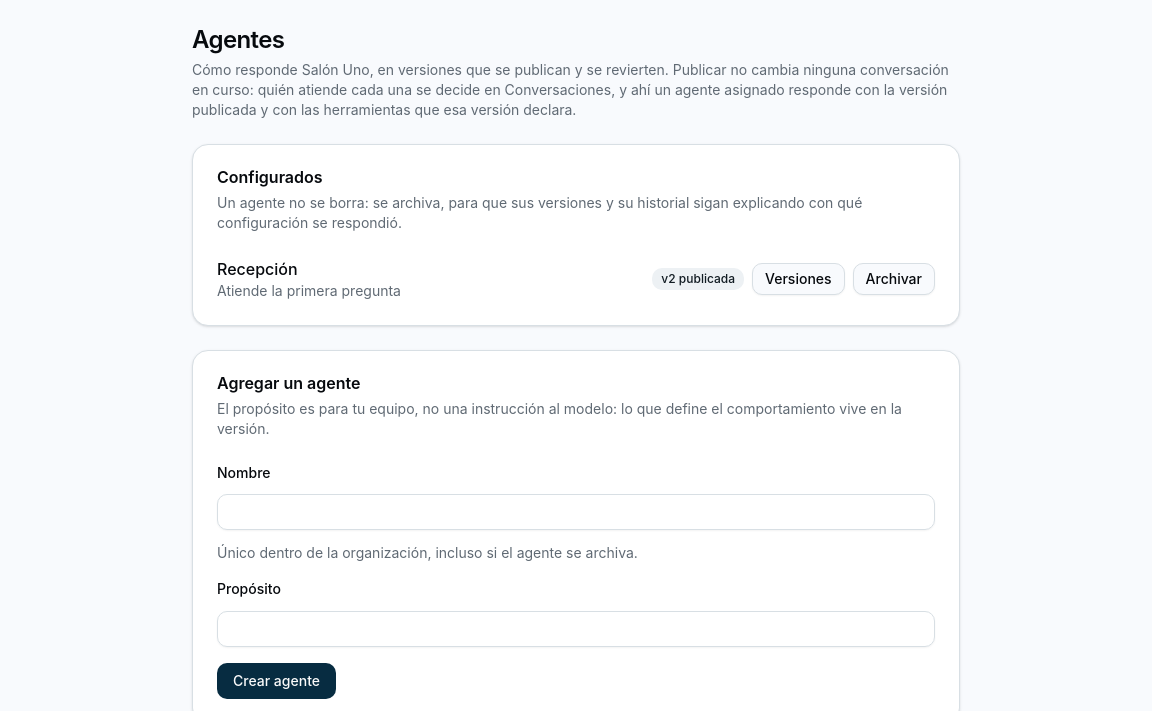
Test: configuración de agentes › ofrece el catálogo de herramientas en vez de un campo para escribirlas
Click the button "Versiones".
click(798, 279)  # box [752,263,844,295]
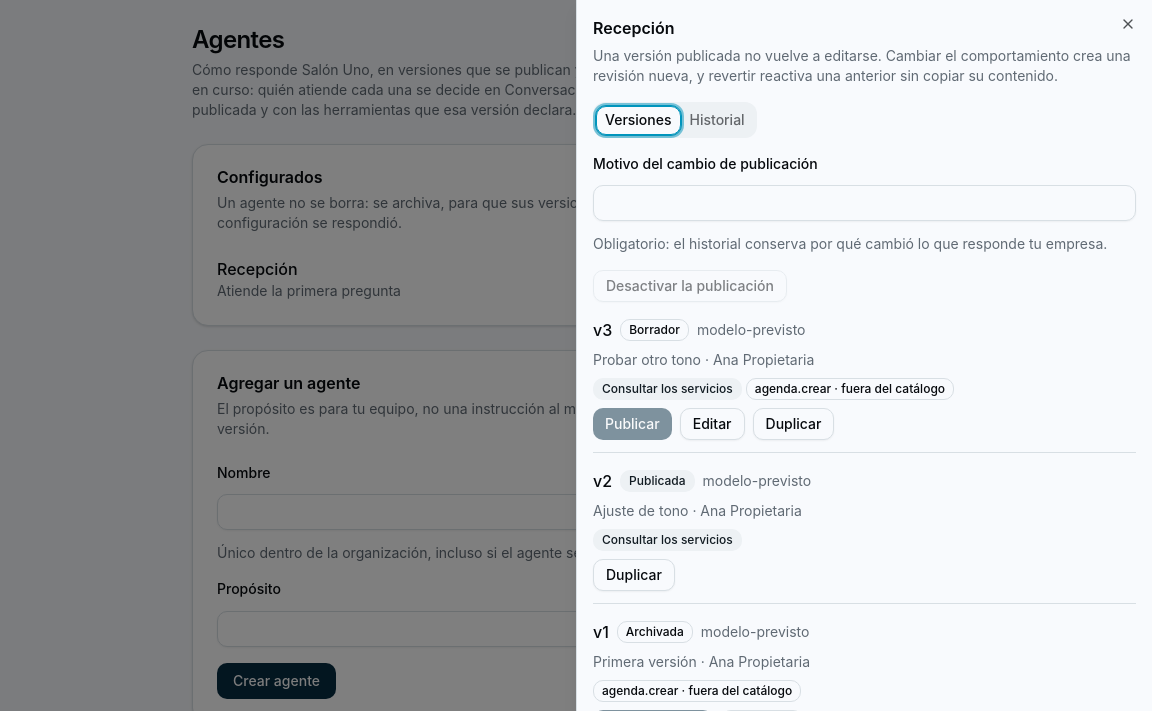
Click the button "Editar".
click(712, 424)  # box [680,408,744,440]
(page scrolled)
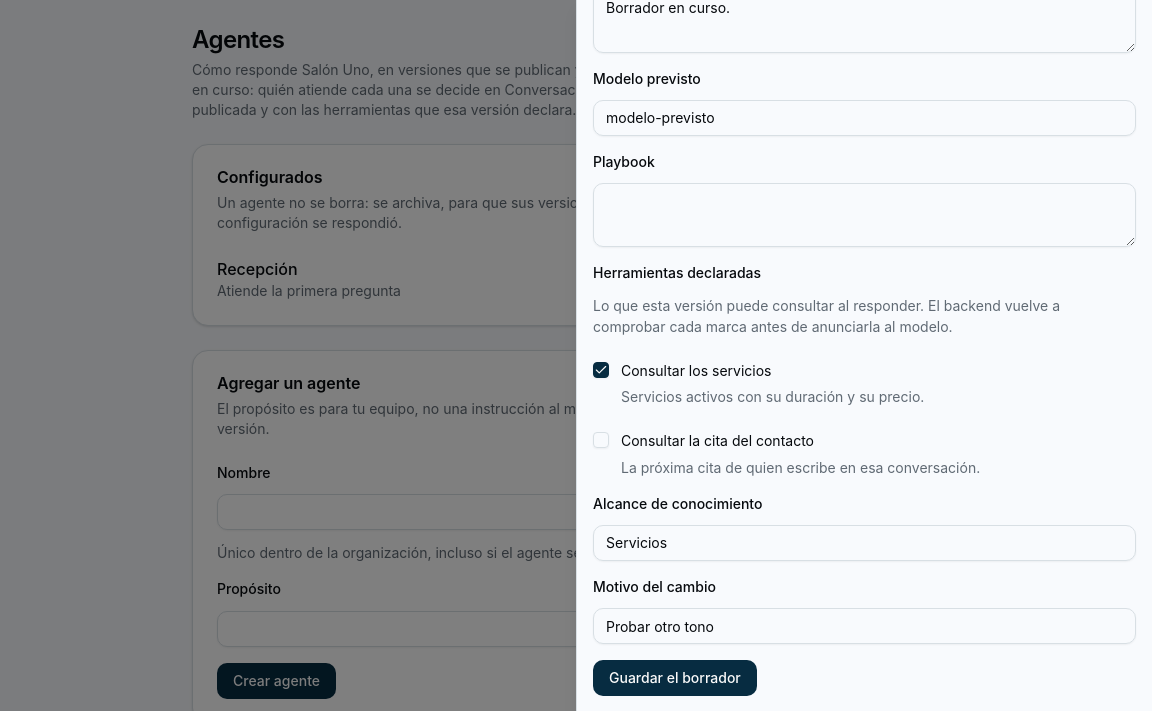
Result: the checkbox named "Consultar los servicios" next to "Consultar los servicios" is checked at [593,362,609,378]
Result: the checkbox named "Consultar la cita del contacto" next to "Consultar la cita del contacto" is not checked at [593,432,609,448]
Result: the text "Servicios activos con su duración y su precio." is shown at [621,388,924,405]
